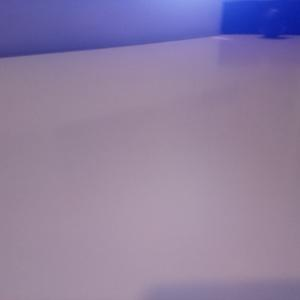dead_ball: (260, 8, 285, 37)
